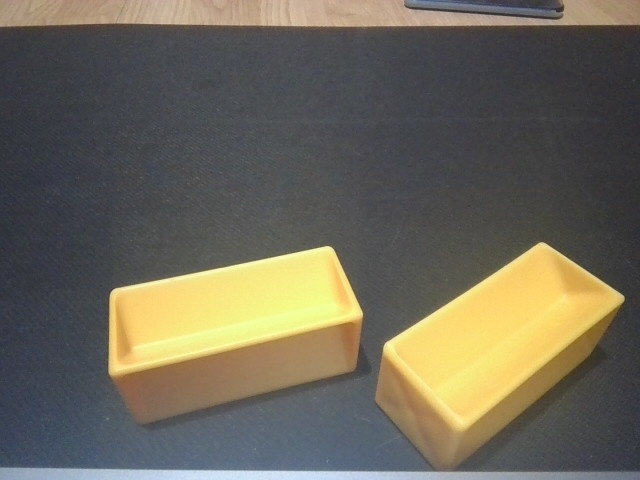YellowSample: (371, 239, 628, 472), (103, 243, 369, 428)
